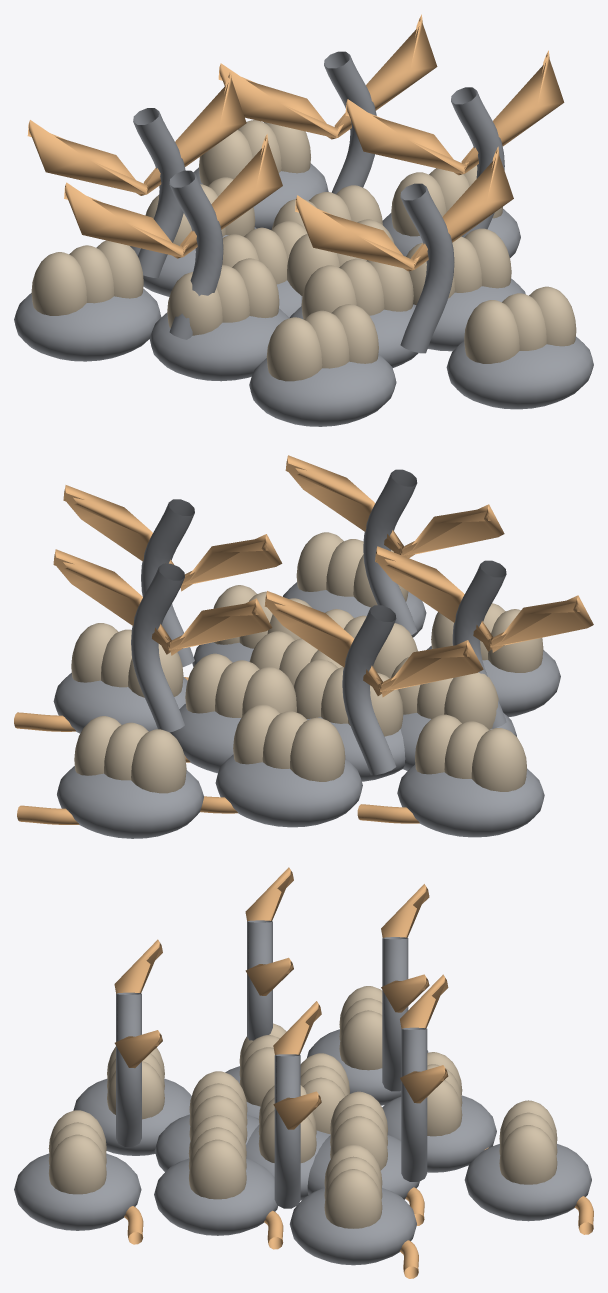
The model's file is bio_acid_mat_12_near.glb.
3 views of the same model, one above another, from view 1: azimuth 30°, elevation 25°; view 2: azimuth 150°, elevation 25°; view 3: azimuth 270°, elevation 25° (orthographic). The views are drawn at different scales.
Parts seen in each view (by area): view 1: Microbial cushion.007, Microbial cushion.010, Microbial cushion.009, Secondary fan lobe.008, Secondary fan lobe.004, Secondary fan lobe, Secondary fan lobe.002, Secondary fan lobe.006, Reaction vesicle.021, Reaction vesicle.030, Reaction vesicle.027, Microbial cushion.004 (+20 smaller); view 2: Microbial cushion.011, Microbial cushion.009, Microbial cushion.006, Reaction vesicle.033, Reaction vesicle.018, Reaction vesicle.027, Secondary fan lobe.008, Secondary fan lobe.002, Secondary fan lobe.006, Secondary fan lobe.004, Secondary fan lobe, Reaction vesicle.009 (+24 smaller); view 3: Microbial cushion.010, Microbial cushion.008, Microbial cushion.011, Microbial cushion.005, Reaction vesicle.024, Reaction vesicle.033, Reaction vesicle.015, Reaction vesicle.030, Microbial cushion.006, Branching support, Branching support.003, Microbial cushion.007 (+24 smaller).
Boxes of the visible parts, x1=… form: Microbial cushion.007: x1=249, y1=354, x2=396, y2=426; Microbial cushion.010: x1=446, y1=336, x2=593, y2=409; Microbial cushion.009: x1=14, y1=289, x2=161, y2=361; Secondary fan lobe.008: x1=64, y1=134, x2=282, y2=258; Secondary fan lobe.004: x1=295, y1=146, x2=513, y2=271; Secondary fan lobe: x1=345, y1=50, x2=564, y2=175; Secondary fan lobe.002: x1=27, y1=71, x2=246, y2=195; Secondary fan lobe.006: x1=218, y1=14, x2=437, y2=139; Reaction vesicle.021: x1=266, y1=304, x2=378, y2=381; Reaction vesicle.030: x1=464, y1=286, x2=576, y2=363; Reaction vesicle.027: x1=31, y1=240, x2=143, y2=315; Microbial cushion.004: x1=149, y1=308, x2=289, y2=381; Microbial cushion.011: x1=57, y1=766, x2=203, y2=838; Microbial cushion.009: x1=397, y1=765, x2=544, y2=837; Microbial cushion.006: x1=215, y1=754, x2=362, y2=827; Reaction vesicle.033: x1=74, y1=716, x2=186, y2=793; Reaction vesicle.018: x1=233, y1=704, x2=345, y2=781; Reaction vesicle.027: x1=415, y1=714, x2=526, y2=791; Secondary fan lobe.008: x1=375, y1=546, x2=593, y2=652; Secondary fan lobe.002: x1=264, y1=591, x2=483, y2=697; Secondary fan lobe.006: x1=53, y1=549, x2=272, y2=655; Secondary fan lobe.004: x1=285, y1=455, x2=504, y2=557; Secondary fan lobe: x1=63, y1=485, x2=282, y2=591; Reaction vesicle.009: x1=185, y1=653, x2=296, y2=717; Microbial cushion.010: x1=14, y1=1153, x2=141, y2=1230; Microbial cushion.008: x1=289, y1=1188, x2=416, y2=1265; Microbial cushion.011: x1=464, y1=1143, x2=591, y2=1221; Microbial cushion.005: x1=154, y1=1158, x2=277, y2=1235; Reaction vesicle.024: x1=324, y1=1144, x2=382, y2=1228; Reaction vesicle.033: x1=499, y1=1100, x2=557, y2=1184; Reaction vesicle.015: x1=188, y1=1115, x2=246, y2=1199; Reaction vesicle.030: x1=48, y1=1110, x2=106, y2=1194; Microbial cushion.006: x1=382, y1=1095, x2=496, y2=1172; Branching support: x1=274, y1=1054, x2=300, y2=1208; Branching support.003: x1=401, y1=1027, x2=427, y2=1181; Microbial cushion.007: x1=73, y1=1078, x2=191, y2=1155.
Bounding box in the file's own units: 1.85 × 0.755 × 2.
